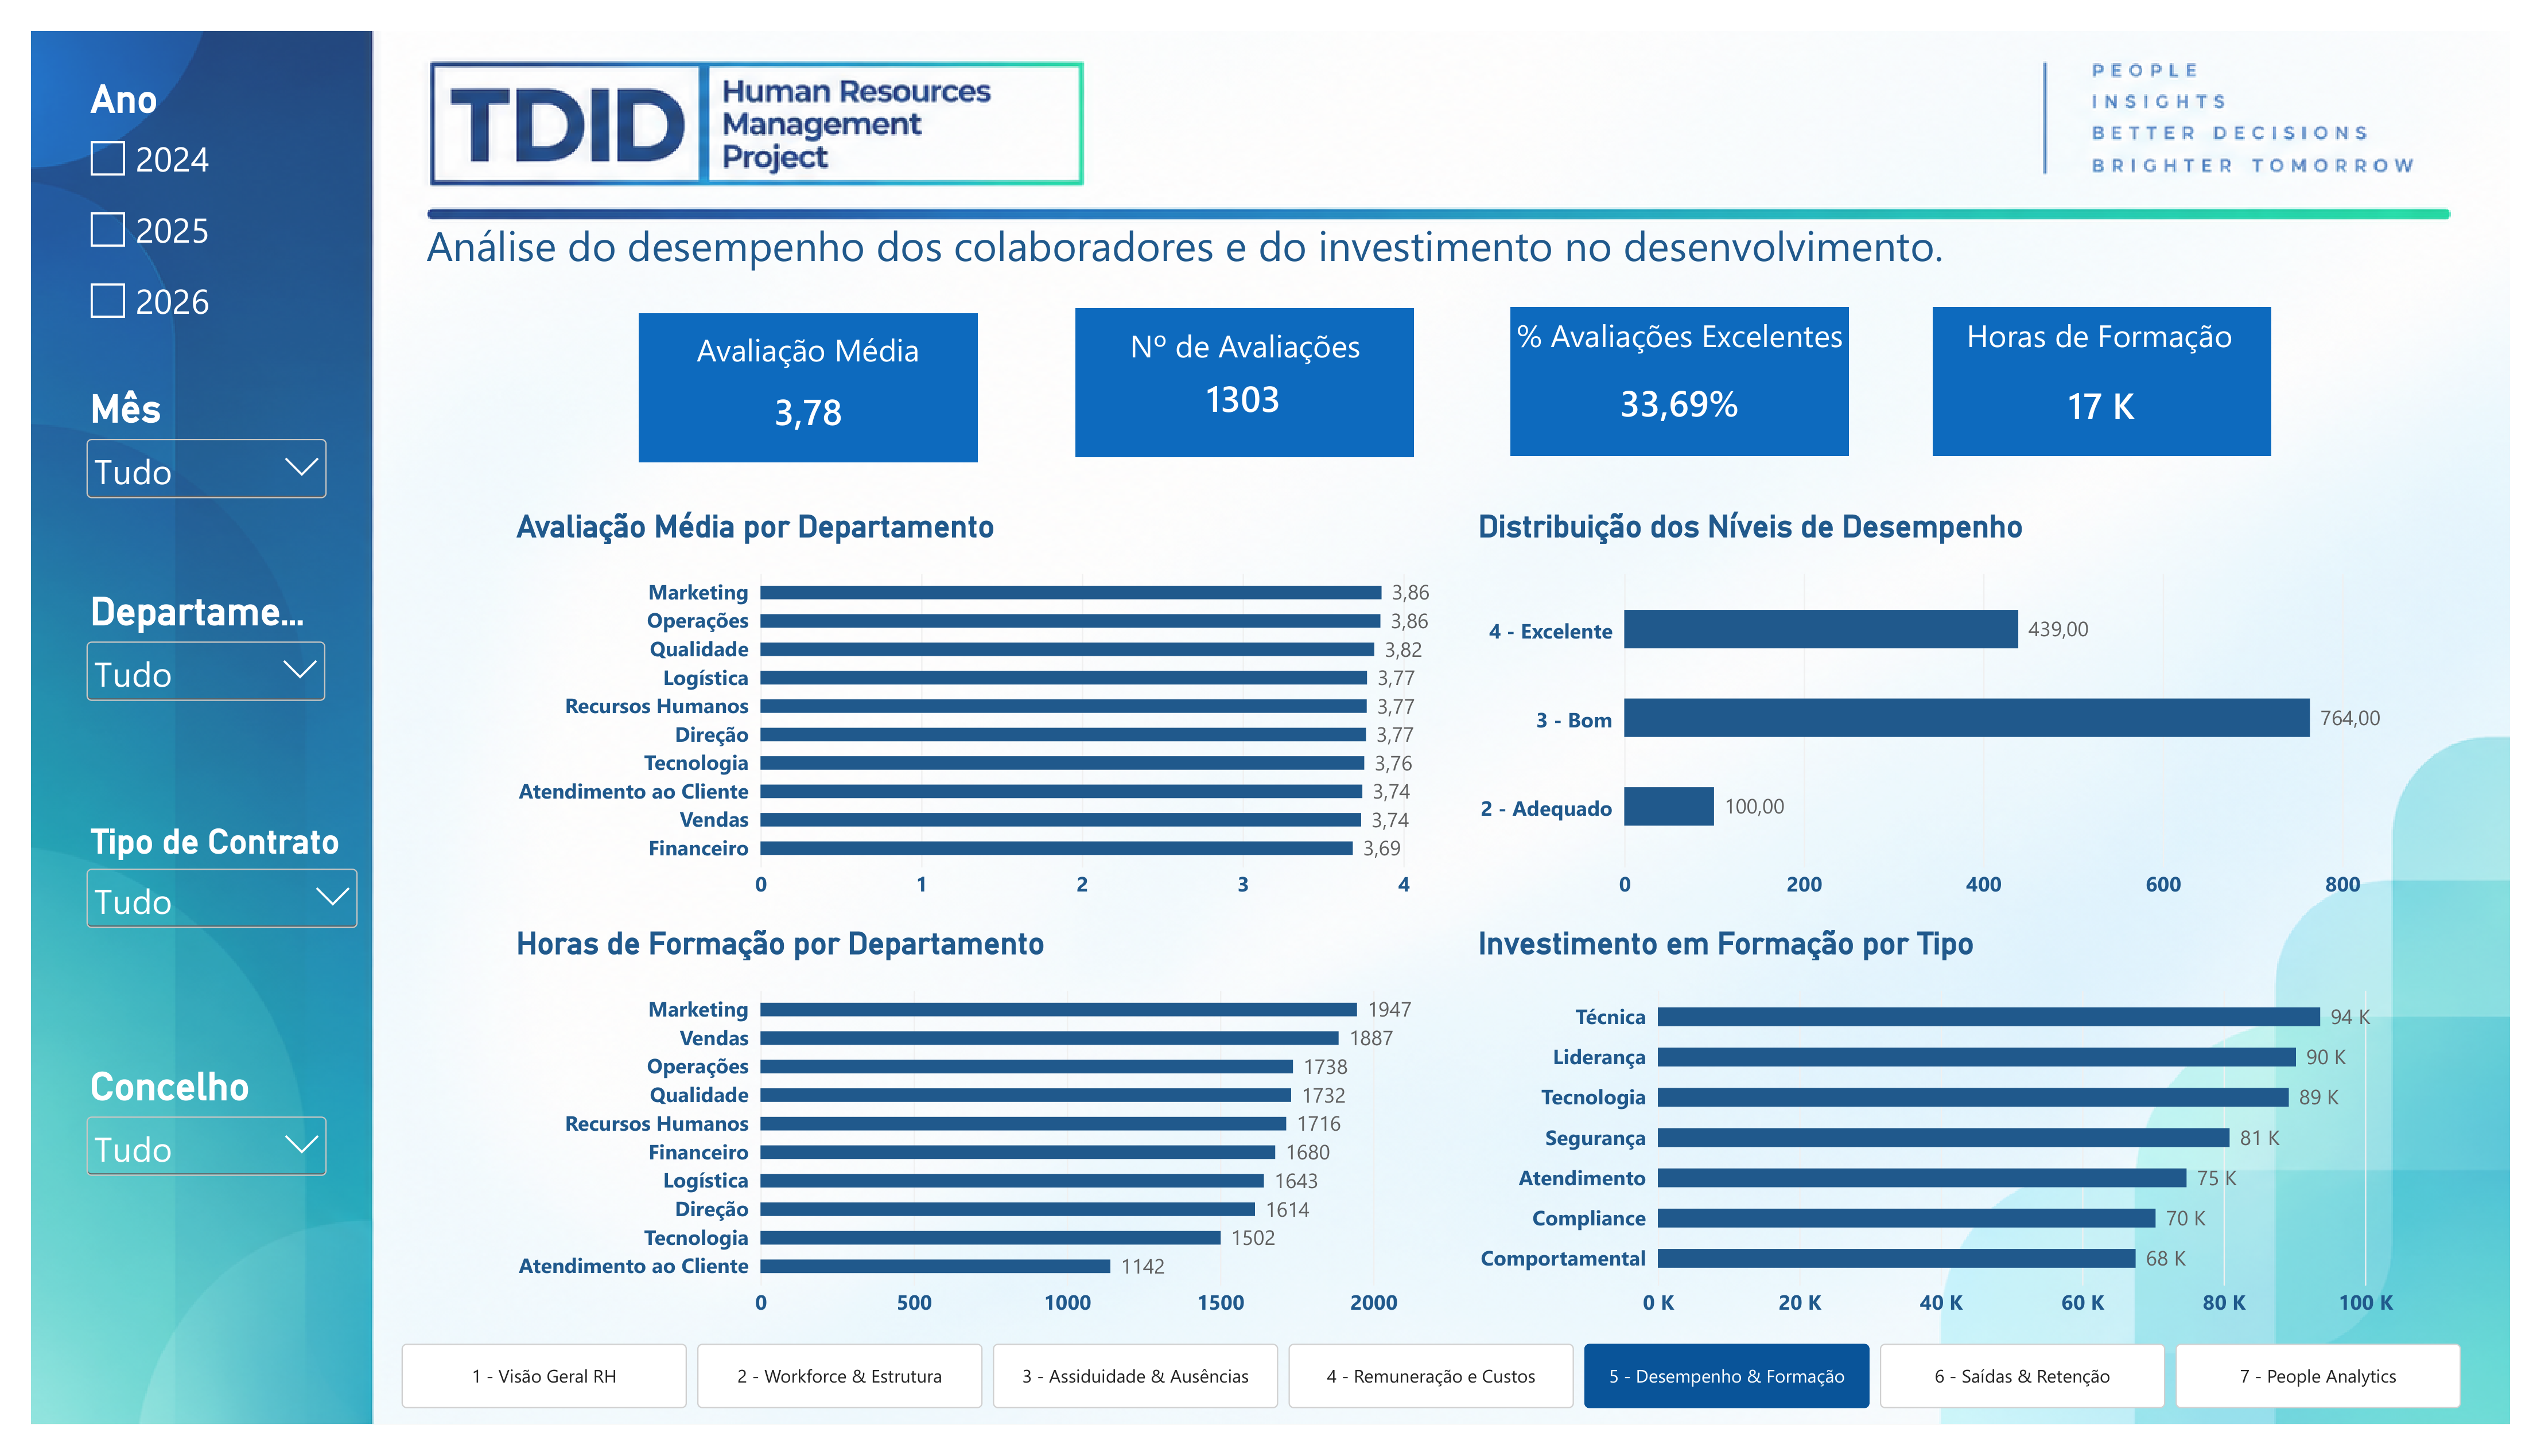

The dashboard page shown, as its layout file describes it:
{"tool":"powerbi","page":{"name":"5 - Desempenho & Formação","canvas":[1920,1080],"ordinal":5},"visuals":[{"type":"slicer","fields":{"Values":["dCalendario.Ano"]},"box":[38.3,35,195.6,217.1],"z":0},{"type":"slicer","fields":{"Values":["dCalendario.Mes_Nome"]},"box":[38.3,275,195.6,217.1],"z":1000},{"type":"slicer","fields":{"Values":["dDepartamento.Departamento"]},"box":[38.3,431.7,195,108.3],"z":2000},{"type":"slicer","fields":{"Values":["dTipoContrato.TipoContrato"]},"box":[38.3,611.7,220,216.7],"z":3000},{"type":"slicer","fields":{"Values":["dLocalizacao.Concelho"]},"box":[38.3,800,195.6,217.1],"z":4000},{"type":"shape","title":"Colaboradores Ativos","box":[471.2,218.6,261.7,115],"z":5000},{"type":"shape","title":"Colaboradores Ativos","box":[1146.2,213.6,261.7,115],"z":6000},{"type":"shape","title":"Colaboradores Ativos","box":[808.9,215.2,261.7,115],"z":7000},{"type":"shape","title":"Colaboradores Ativos","box":[1472.9,213.6,261.7,115],"z":8000},{"type":"card","fields":{"Values":["_Medidas_RH.Avaliação Média"]},"box":[471.4,220,261.4,152.9],"z":9000},{"type":"card","fields":{"Values":["_Medidas_RH.Nº de Avaliações"]},"box":[807.9,215.2,261.7,141.7],"z":10000},{"type":"card","fields":{"Values":["_Medidas_RH.% Avaliações Excelentes"]},"box":[1146.2,213.6,261.7,151.7],"z":11000},{"type":"card","fields":{"Values":["_Medidas_RH.Horas de Formação"]},"box":[1472.9,215.7,261.4,151.4],"z":12000},{"type":"textbox","box":[471.2,230.2,261.7,43.3],"z":13000},{"type":"textbox","box":[809.6,226.9,261.7,43.3],"z":14000},{"type":"textbox","box":[1146.2,218.6,261.7,43.3],"z":15000},{"type":"textbox","box":[1471.2,218.6,261.7,58.3],"z":16000},{"type":"clusteredBarChart","title":"Avaliação Média por Departamento","fields":{"Category":["dDepartamento.Departamento"],"Y":["_Medidas_RH.Avaliação Média"]},"box":[360.4,356.2,744.7,338],"z":17000},{"type":"clusteredBarChart","title":"Distribuição dos Níveis de Desempenho","fields":{"Category":["fDesempenho.Nivel_Desempenho_Ordenado"],"Y":["_Medidas_RH.Nº de Avaliações"]},"box":[1105.2,356.2,744.7,338],"z":18000},{"type":"clusteredBarChart","title":"Horas de Formação por Departamento","fields":{"Category":["dDepartamento.Departamento"],"Y":["_Medidas_RH.Horas de Formação"]},"box":[360.4,678.8,744.7,339.4],"z":19000},{"type":"clusteredBarChart","title":"Investimento em Formação por Tipo","fields":{"Category":["dTipoFormacao.TipoFormacao"],"Y":["_Medidas_RH.Investimento em Formação"]},"box":[1105.2,678.8,744.7,339.4],"z":20000},{"type":"pageNavigator","box":[286.7,1016.7,1600,50],"z":20001},{"type":"textbox","box":[305.7,143.1,1561,120.6],"z":20002}]}

Visuals, with their boxes in screenshot pixels (x1, y1, x2, y2), scaled from the page's 1920x1080 canvas onto the 2541x1456 screenshot:
slicer - dCalendario.Ano: [x1=50, y1=47, x2=309, y2=340]
slicer - dCalendario.Mes_Nome: [x1=50, y1=371, x2=309, y2=663]
slicer - dDepartamento.Departamento: [x1=50, y1=582, x2=309, y2=728]
slicer - dTipoContrato.TipoContrato: [x1=50, y1=824, x2=342, y2=1117]
slicer - dLocalizacao.Concelho: [x1=50, y1=1079, x2=309, y2=1371]
"Colaboradores Ativos" shape: [x1=624, y1=295, x2=970, y2=450]
"Colaboradores Ativos" shape: [x1=1517, y1=288, x2=1863, y2=443]
"Colaboradores Ativos" shape: [x1=1071, y1=290, x2=1417, y2=445]
"Colaboradores Ativos" shape: [x1=1949, y1=288, x2=2295, y2=443]
card - _Medidas_RH.Avaliação Média: [x1=624, y1=297, x2=970, y2=503]
card - _Medidas_RH.Nº de Avaliações: [x1=1069, y1=290, x2=1416, y2=481]
card - _Medidas_RH.% Avaliações Excelentes: [x1=1517, y1=288, x2=1863, y2=492]
card - _Medidas_RH.Horas de Formação: [x1=1949, y1=291, x2=2295, y2=495]
textbox: [x1=624, y1=310, x2=970, y2=369]
textbox: [x1=1071, y1=306, x2=1418, y2=364]
textbox: [x1=1517, y1=295, x2=1863, y2=353]
textbox: [x1=1947, y1=295, x2=2294, y2=373]
"Avaliação Média por Departamento" clusteredBarChart: [x1=477, y1=480, x2=1463, y2=936]
"Distribuição dos Níveis de Desempenho" clusteredBarChart: [x1=1463, y1=480, x2=2448, y2=936]
"Horas de Formação por Departamento" clusteredBarChart: [x1=477, y1=915, x2=1463, y2=1373]
"Investimento em Formação por Tipo" clusteredBarChart: [x1=1463, y1=915, x2=2448, y2=1373]
pageNavigator: [x1=379, y1=1371, x2=2497, y2=1438]
textbox: [x1=405, y1=193, x2=2470, y2=356]
